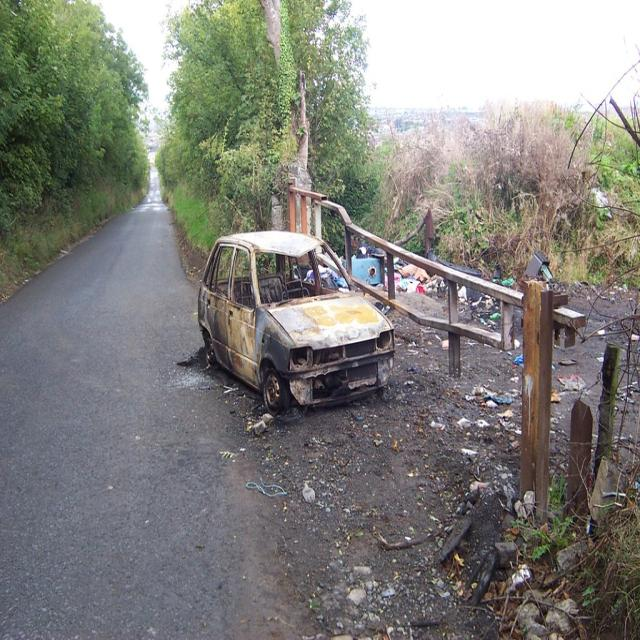car: (186, 251, 375, 414)
